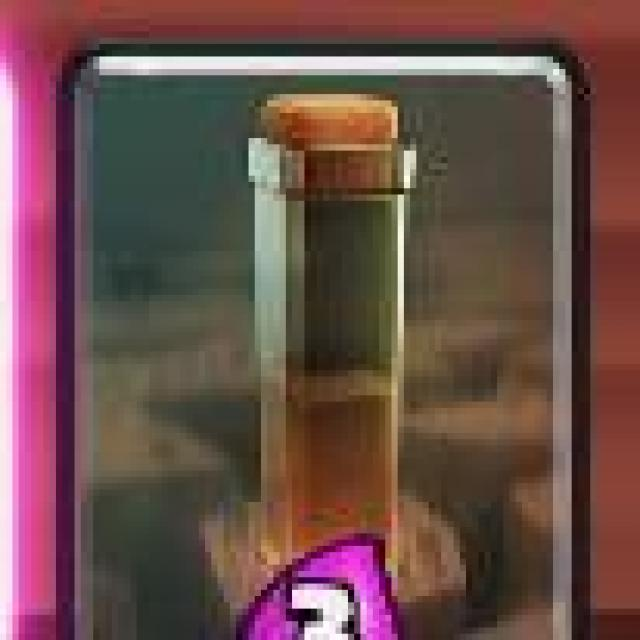Earthquake: (60, 40, 590, 640)
